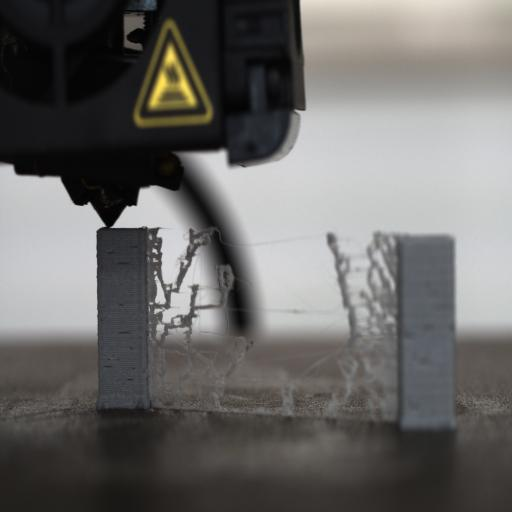stringing: (323, 228, 405, 422)
